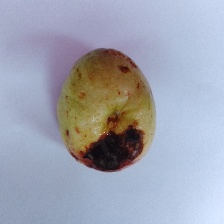guava: (40, 59, 181, 202)
